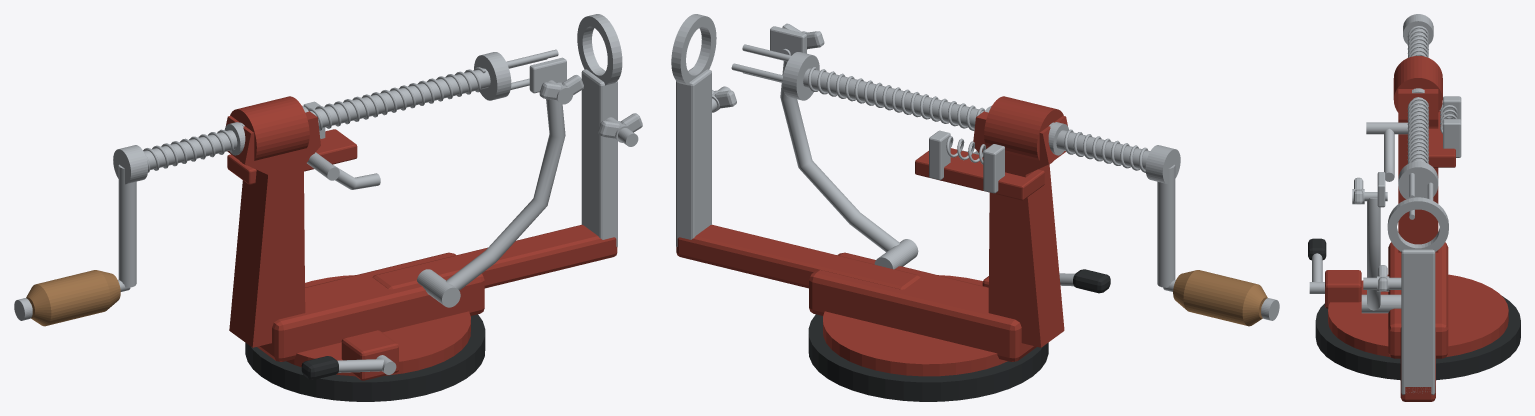
The model's file is A-NEW-20261026-APPLE-PEELER-001_LOD1_R3.glb.
3 views of the same model, side by side, from view 1: azimuth 30°, elevation 25°; view 2: azimuth 150°, elevation 25°; view 3: azimuth 270°, elevation 25° (orthographic). The views are drawn at different scales.
Parts seen in each view (by area): view 1: upright open cast frame, cast foot bridge, rubber suction foot, front support rail, upright coring bracket, suction upper cover, continuous spindle core, rounded wooden crank grip, curved peeler arm, spindle bearing housing, offset crank arm, blunt open core ring (+11 smaller); view 2: upright open cast frame, cast foot bridge, front support rail, rubber suction foot, suction upper cover, upright coring bracket, continuous spindle core, rounded wooden crank grip, spindle bearing housing, curved peeler arm, spring anchor bridge, offset crank arm (+10 smaller); view 3: suction upper cover, upright coring bracket, rubber suction foot, cast foot bridge, upright open cast frame, blunt open core ring, spindle bearing housing, curved peeler arm, suction cam bracket, visible spindle thread.001, fork spindle hub, spring anchor bridge (+14 smaller).
Boxes of the visible parts, box(x1,y1,x2,y2) form: upright open cast frame: box(225, 106, 320, 347); cast foot bridge: box(257, 252, 484, 361); rubber suction foot: box(245, 314, 485, 401); front support rail: box(372, 224, 617, 289); upright coring bracket: box(581, 67, 617, 246); suction upper cover: box(286, 275, 470, 376); continuous spindle core: box(143, 68, 490, 169); rounded wooden crank grip: box(26, 270, 120, 326); curved peeler arm: box(446, 99, 565, 290); spindle bearing housing: box(230, 96, 309, 164); offset crank arm: box(118, 164, 136, 287); blunt open core ring: box(577, 14, 622, 85); upright open cast frame: box(973, 106, 1067, 347); cast foot bridge: box(809, 252, 1036, 361); front support rail: box(676, 224, 920, 289); rubber suction foot: box(808, 314, 1048, 401); suction upper cover: box(823, 275, 1007, 376); upright coring bracket: box(676, 67, 711, 246); continuous spindle core: box(803, 68, 1150, 169); rounded wooden crank grip: box(1173, 270, 1267, 326); spindle bearing housing: box(984, 96, 1063, 164); curved peeler arm: box(780, 61, 899, 251); spring anchor bridge: box(915, 148, 1044, 200); offset crank arm: box(1157, 164, 1175, 287); suction upper cover: box(1328, 274, 1508, 356); upright coring bracket: box(1401, 249, 1435, 394); rubber suction foot: box(1315, 295, 1520, 380); cast foot bridge: box(1388, 242, 1448, 358); upright open cast frame: box(1398, 89, 1438, 252); blunt open core ring: box(1387, 197, 1448, 251); spindle bearing housing: box(1393, 56, 1442, 112); curved peeler arm: box(1367, 198, 1380, 310); suction cam bracket: box(1325, 270, 1361, 308); visible spindle thread.001: box(1407, 97, 1428, 163); fork spindle hub: box(1398, 161, 1438, 199); spring anchor bridge: box(1428, 111, 1455, 167).
Bounding box in the file's own units: 0.387 × 0.17 × 0.139.
